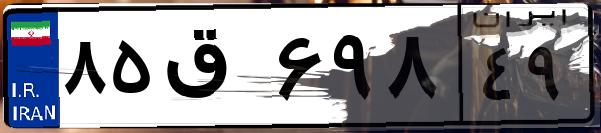4: (475, 38, 525, 113)
5: (110, 28, 158, 98)
6: (270, 28, 330, 110)
8: (385, 28, 445, 110), (57, 26, 110, 100)
9: (330, 28, 385, 110), (525, 38, 570, 115)
ق: (158, 20, 270, 120)
